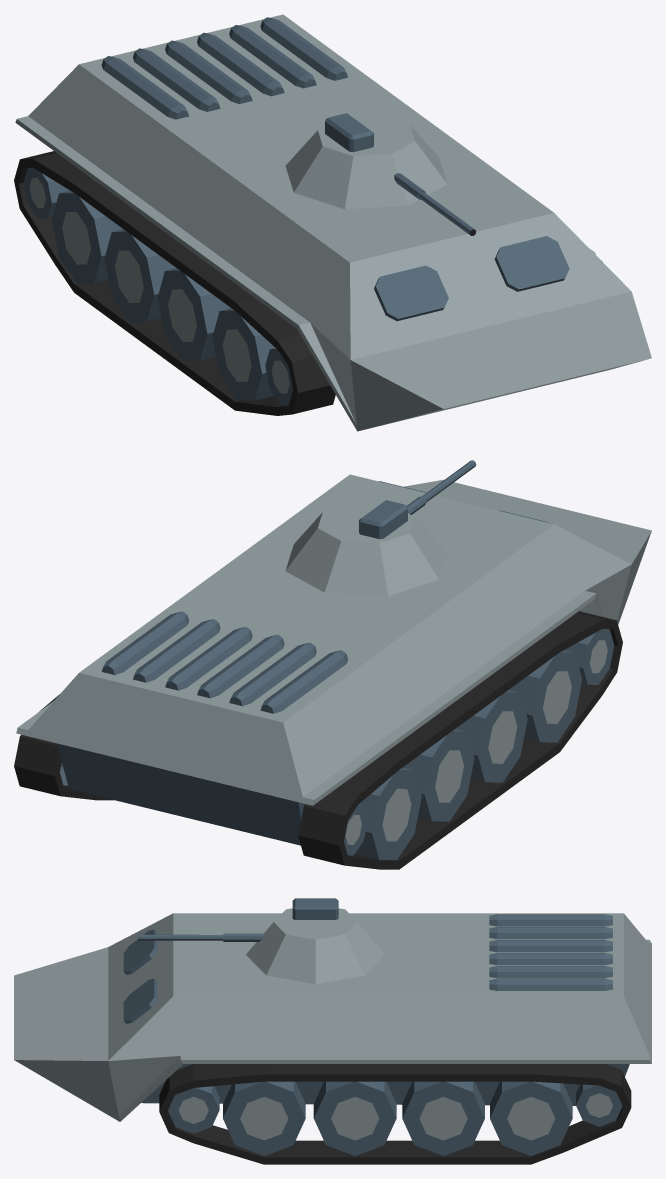
File: IFV_03.fbx
The picture shows the model from 3 angles, top to bottom: view 1: azimuth 30°, elevation 25°; view 2: azimuth 150°, elevation 25°; view 3: azimuth 270°, elevation 25°; orthographic projection. The views are drawn at different scales.
Parts seen in each view (by area): view 1: IFV_03, IFV_03_Turret, IFV_03_Barrel; view 2: IFV_03, IFV_03_Turret, IFV_03_Barrel; view 3: IFV_03, IFV_03_Turret, IFV_03_Barrel.
Part boxes in pixels (<box>): IFV_03: <box>14,14,651,431</box>; IFV_03_Turret: <box>285,113,447,209</box>; IFV_03_Barrel: <box>394,173,475,235</box>; IFV_03: <box>14,474,651,869</box>; IFV_03_Turret: <box>285,500,447,596</box>; IFV_03_Barrel: <box>407,460,476,514</box>; IFV_03: <box>14,913,651,1164</box>; IFV_03_Turret: <box>246,898,384,983</box>; IFV_03_Barrel: <box>138,933,263,941</box>.
Bounding box in the file's own units: 5.34 × 3.58 × 10.91.
